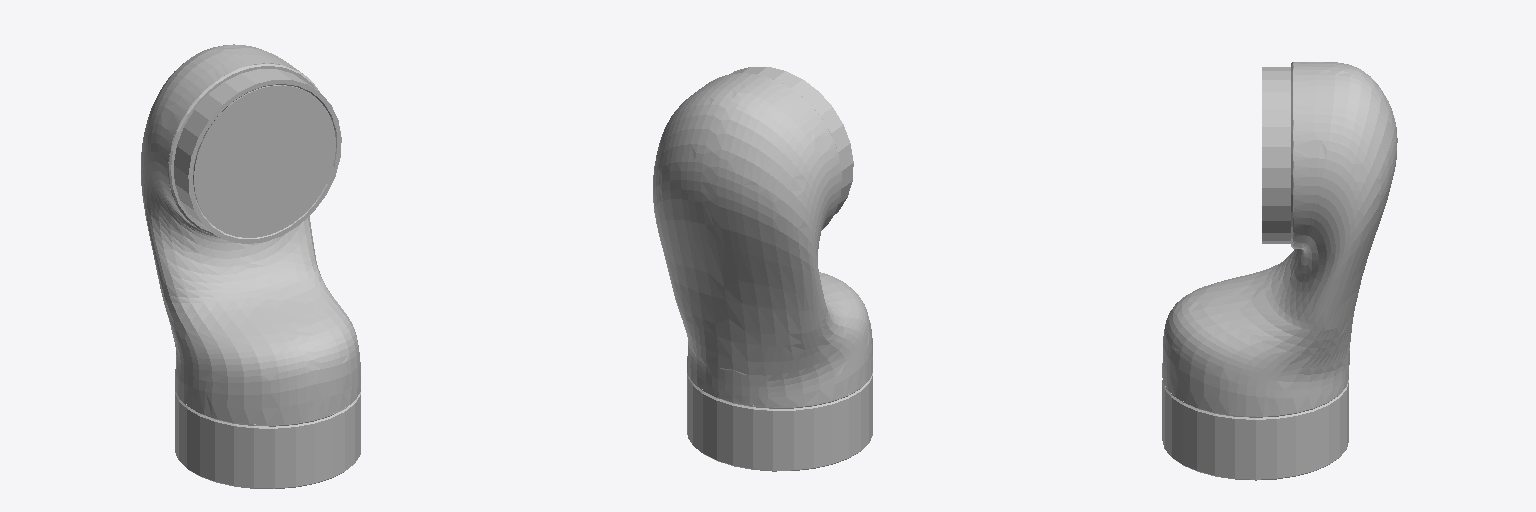
Rendered from spherical_wrist_2_link_visuals_mesh_0.obj.
3 views of the same model, side by side, from view 1: azimuth 30°, elevation 25°; view 2: azimuth 150°, elevation 25°; view 3: azimuth 270°, elevation 25° (orthographic).
Bounding box in the file's own units: 0.07 × 0.1535 × 0.0882.